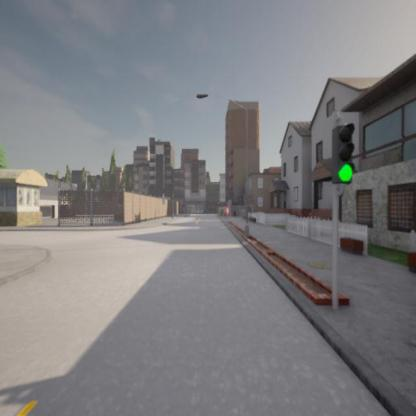traffic_light_green: (333, 124, 357, 185)
